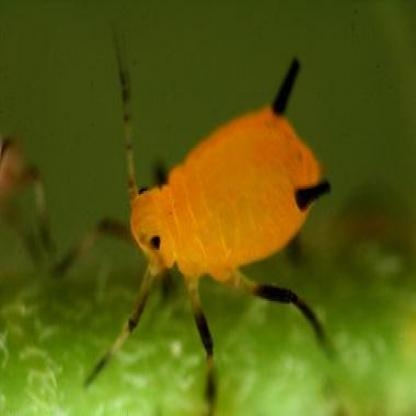aphid: (105, 61, 345, 392)
